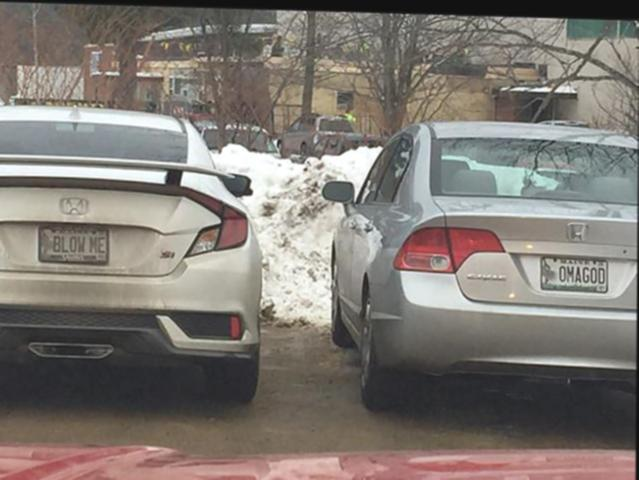License_Plate: (33, 217, 116, 272), (537, 248, 611, 299)
